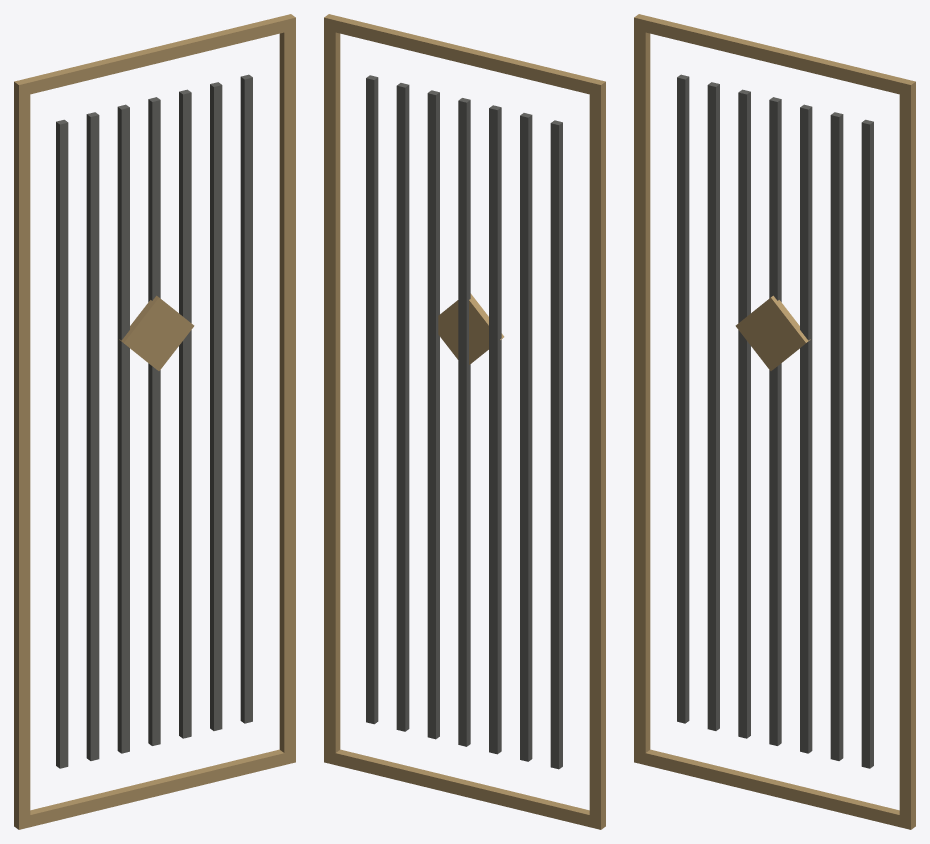
The model's file is corridor_lift_relief.glb.
3 views of the same model, side by side, from view 1: azimuth 30°, elevation 25°; view 2: azimuth 150°, elevation 25°; view 3: azimuth 330°, elevation 25° (orthographic).
Parts seen in each view (by area): view 1: corridor_lift_relief; view 2: corridor_lift_relief; view 3: corridor_lift_relief.
Boxes of the visible parts, left/top/right/bottom form: corridor_lift_relief: left=14, top=14, right=295, bottom=829; corridor_lift_relief: left=324, top=14, right=605, bottom=829; corridor_lift_relief: left=634, top=14, right=915, bottom=829.
Size of the model in its own units: 0.72 by 1.85 by 0.03.
